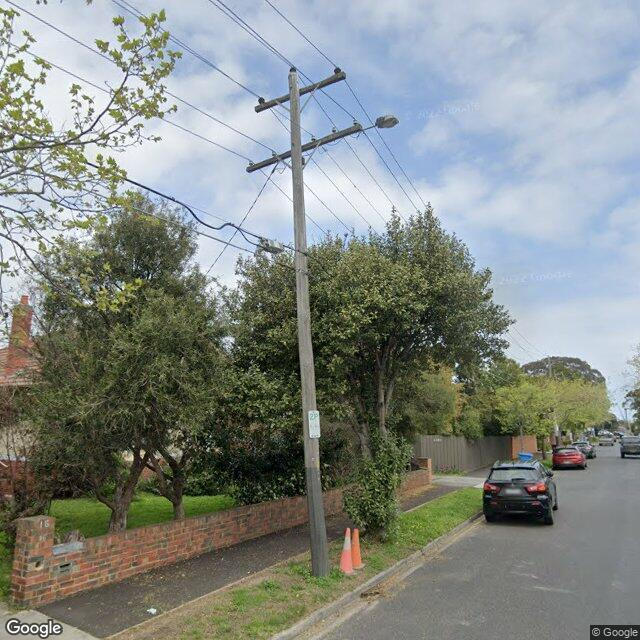HV-transmission: (258, 66, 342, 104)
crossarm: (246, 124, 363, 174), (255, 71, 346, 113)
streetlight: (362, 114, 399, 131)
timber-pole: (288, 72, 328, 577), (547, 354, 559, 448)
